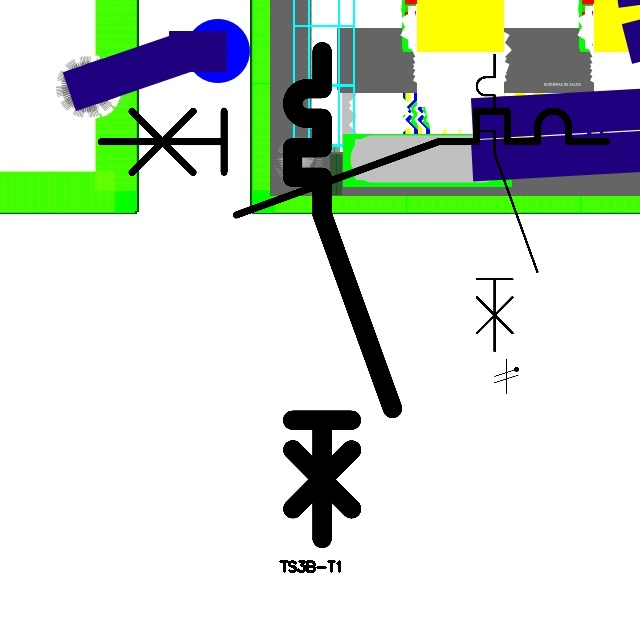interruptor_termomagnetico: (88, 98, 620, 228), (280, 39, 405, 551), (469, 47, 545, 358)
